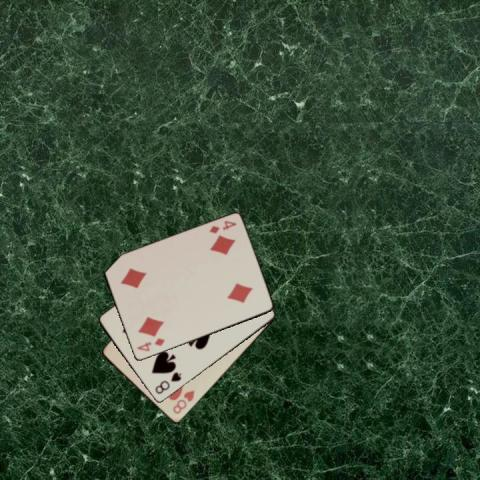4d: (134, 335, 166, 353), (206, 218, 238, 235)
8h: (170, 388, 196, 416)
8s: (152, 369, 183, 396)
